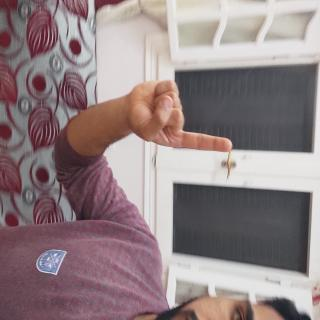BAA: (52, 112, 121, 267)
